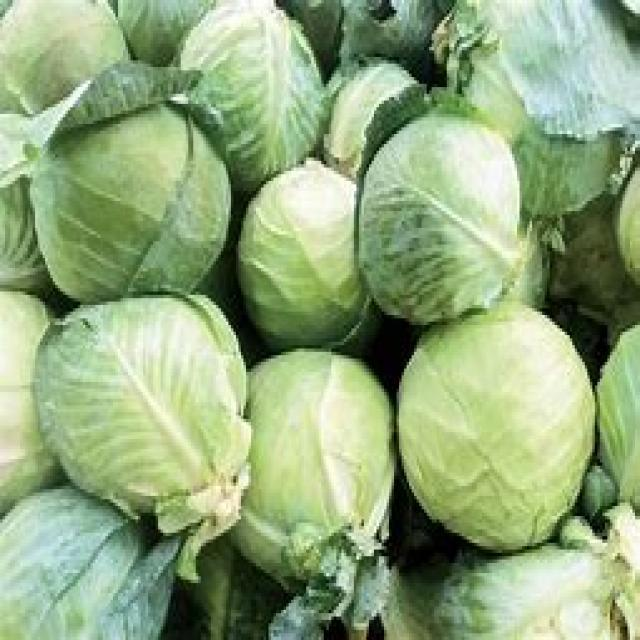cabbage: (21, 289, 250, 554), (384, 303, 591, 552), (24, 73, 236, 302), (235, 345, 397, 576), (351, 115, 530, 320), (180, 0, 320, 177), (242, 168, 372, 355)
